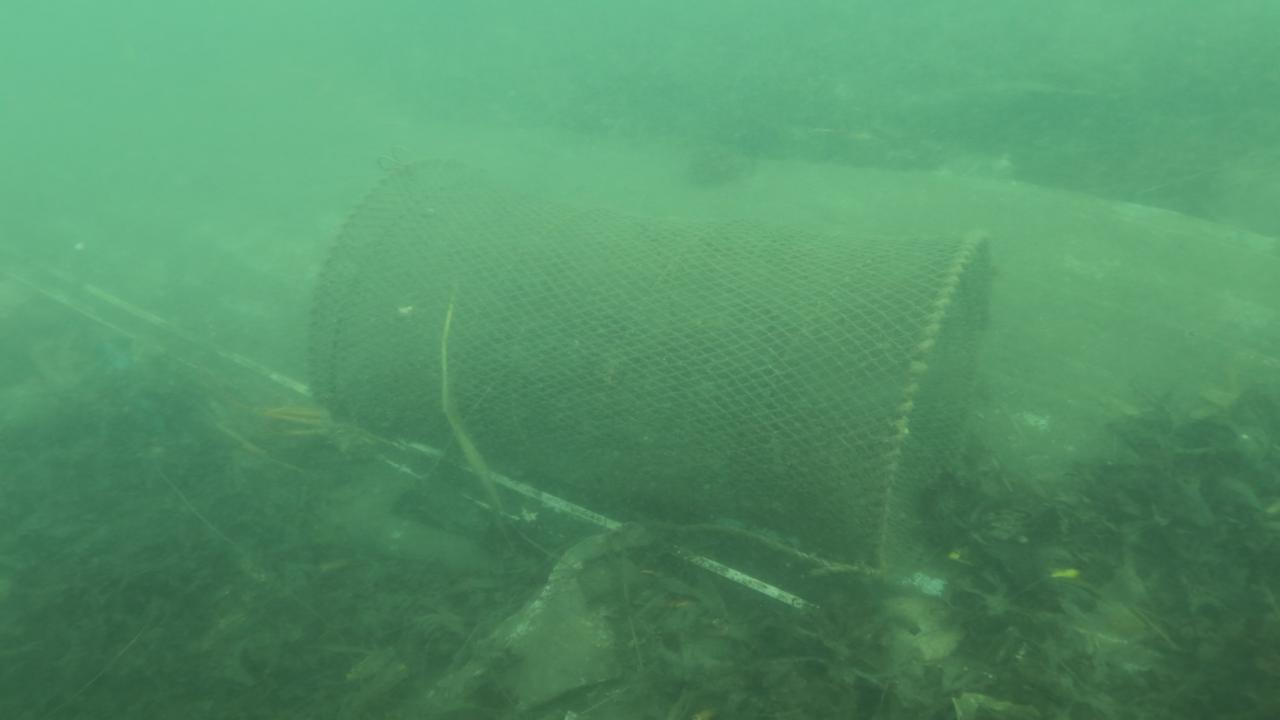spring fish trap: (309, 150, 998, 579)
